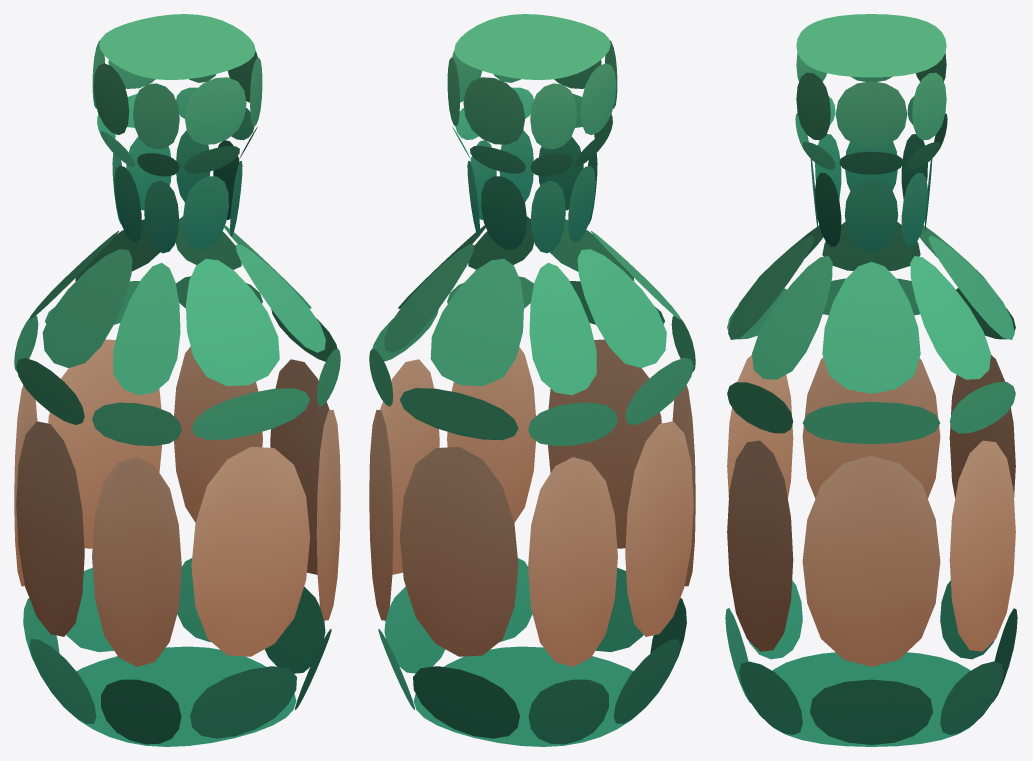
The model's file is bottle.glb.
The picture shows the model from 3 angles, left to right: view 1: azimuth 30°, elevation 25°; view 2: azimuth 150°, elevation 25°; view 3: azimuth 270°, elevation 25°; orthographic projection.
Visible parts, largest first — view 1: bottle; view 2: bottle; view 3: bottle.
Boxes of the visible parts, x1,y1,x2,y2 form: bottle: (14,14,340,746); bottle: (369,14,695,746); bottle: (725,14,1017,746).
Bounding box in the file's own units: 0.3643 × 0.8905 × 0.3643.
Materials: 1 (1 with a texture image).
